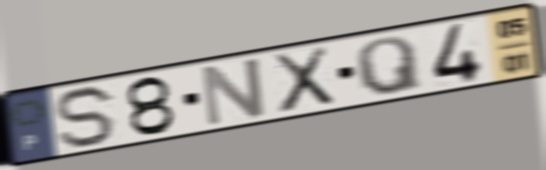4: (430, 20, 486, 85)
8: (124, 75, 177, 138)
N: (198, 55, 268, 130)
Q: (352, 34, 426, 98)
S: (52, 83, 120, 151)
X: (269, 44, 337, 117)
